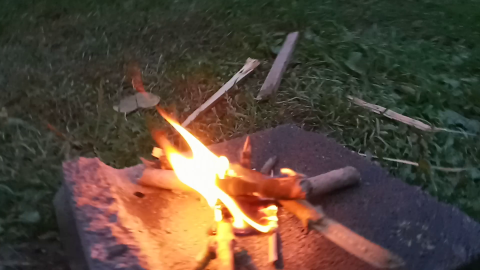fire: (141, 98, 268, 232)
